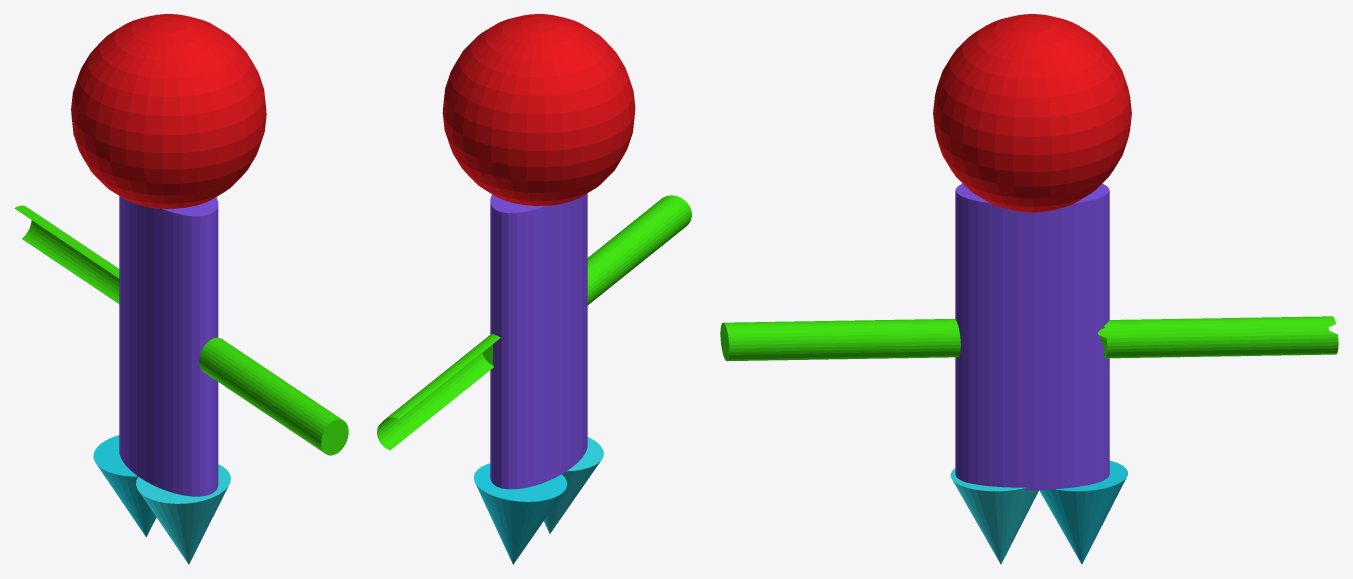
Rendered from monkey.glb.
The picture shows the model from 3 angles, left to right: view 1: azimuth 30°, elevation 25°; view 2: azimuth 150°, elevation 25°; view 3: azimuth 270°, elevation 25°; orthographic projection. The views are drawn at different scales.
Visible parts, largest first — view 1: Sphere, Cylinder, Cylinder.001, Cone, Cone.001; view 2: Sphere, Cylinder, Cylinder.001, Cone.001, Cone; view 3: Cylinder, Sphere, Cylinder.001, Cone.001, Cone.
Boxes of the visible parts, <box> form: Sphere: <box>71,14,266,208</box>; Cylinder: <box>119,196,218,496</box>; Cylinder.001: <box>14,205,348,455</box>; Cone: <box>136,464,230,564</box>; Cone.001: <box>93,435,156,537</box>; Sphere: <box>442,14,635,205</box>; Cylinder: <box>490,193,587,489</box>; Cylinder.001: <box>377,195,691,450</box>; Cone.001: <box>473,463,567,564</box>; Cone: <box>544,437,603,533</box>; Cylinder: <box>955,183,1109,490</box>; Sphere: <box>933,14,1131,212</box>; Cylinder.001: <box>720,316,1338,361</box>; Cone.001: <box>1039,460,1127,564</box>; Cone: <box>950,468,1038,564</box>.
Size of the model in its own units: 2 by 6 by 6.21.
